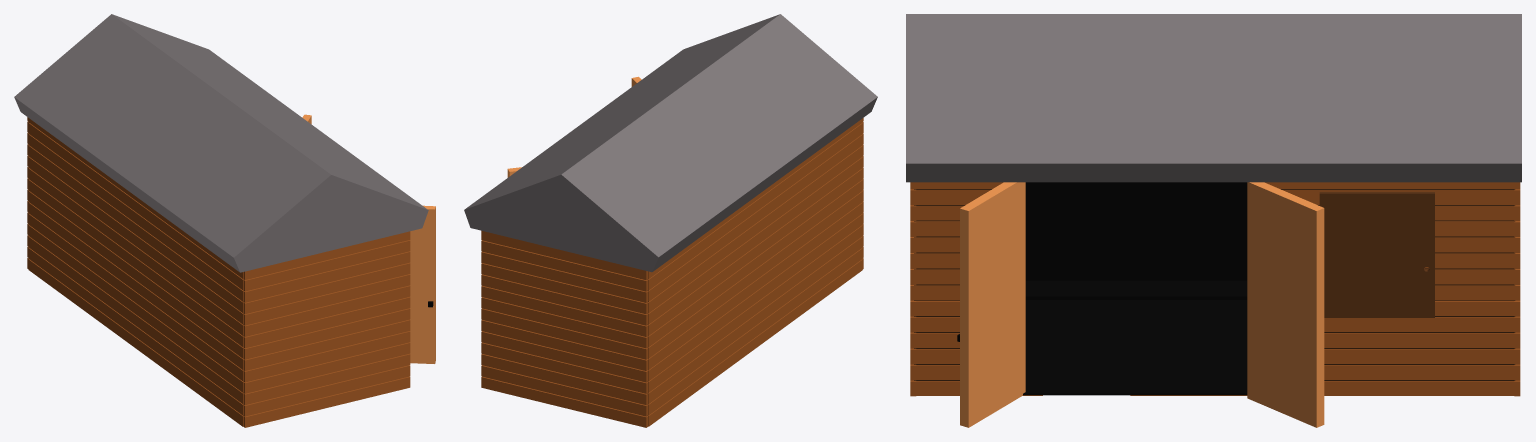
Rendered from GranjaExterior3.fbx.
3 views of the same model, side by side, from view 1: azimuth 30°, elevation 25°; view 2: azimuth 150°, elevation 25°; view 3: azimuth 270°, elevation 25° (orthographic). The views are drawn at different scales.
Parts seen in each view (by area): view 1: Cylinder, Cube.005, Cube.007, Cube.017; view 2: Cylinder, Cube.005, Cube.008; view 3: Cylinder, Cube, Cube.006, Cube.018, Cube.017, Cube.019, Cube.008, Cube.007.
Boxes of the visible parts, x1,y1,x2,y2 form: Cylinder: [14, 14, 428, 272]; Cube.005: [28, 118, 243, 426]; Cube.007: [243, 231, 410, 427]; Cube.017: [410, 205, 435, 363]; Cylinder: [464, 14, 877, 272]; Cube.005: [648, 118, 862, 426]; Cube.008: [481, 230, 648, 427]; Cylinder: [906, 14, 1521, 182]; Cube: [914, 182, 1514, 395]; Cube.006: [914, 182, 1514, 395]; Cube.018: [1247, 182, 1324, 427]; Cube.017: [960, 182, 1025, 427]; Cube.019: [1319, 192, 1434, 317]; Cube.008: [1514, 182, 1520, 396]; Cube.007: [910, 182, 916, 396].
Size of the model in its own units: 274 by 273 by 465.
